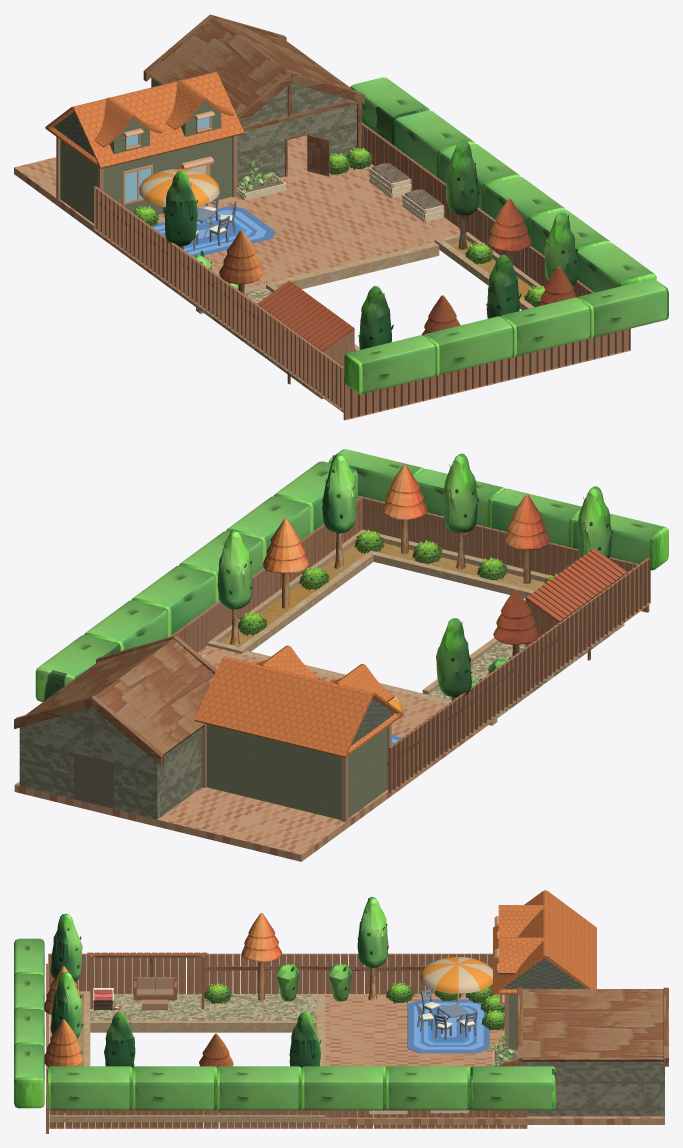
File: hous.fbx
The picture shows the model from 3 angles, top to bottom: view 1: azimuth 30°, elevation 25°; view 2: azimuth 150°, elevation 25°; view 3: azimuth 270°, elevation 25°; orthographic projection. The views are drawn at different scales.
Visible parts, largest first — view 1: group10; view 2: group10; view 3: group10.
Part boxes in pixels (<box>): group10: <box>14,14,668,420</box>; group10: <box>14,449,668,861</box>; group10: <box>14,890,668,1133</box>.
Size of the model in its own units: 1325 by 493 by 2503.
